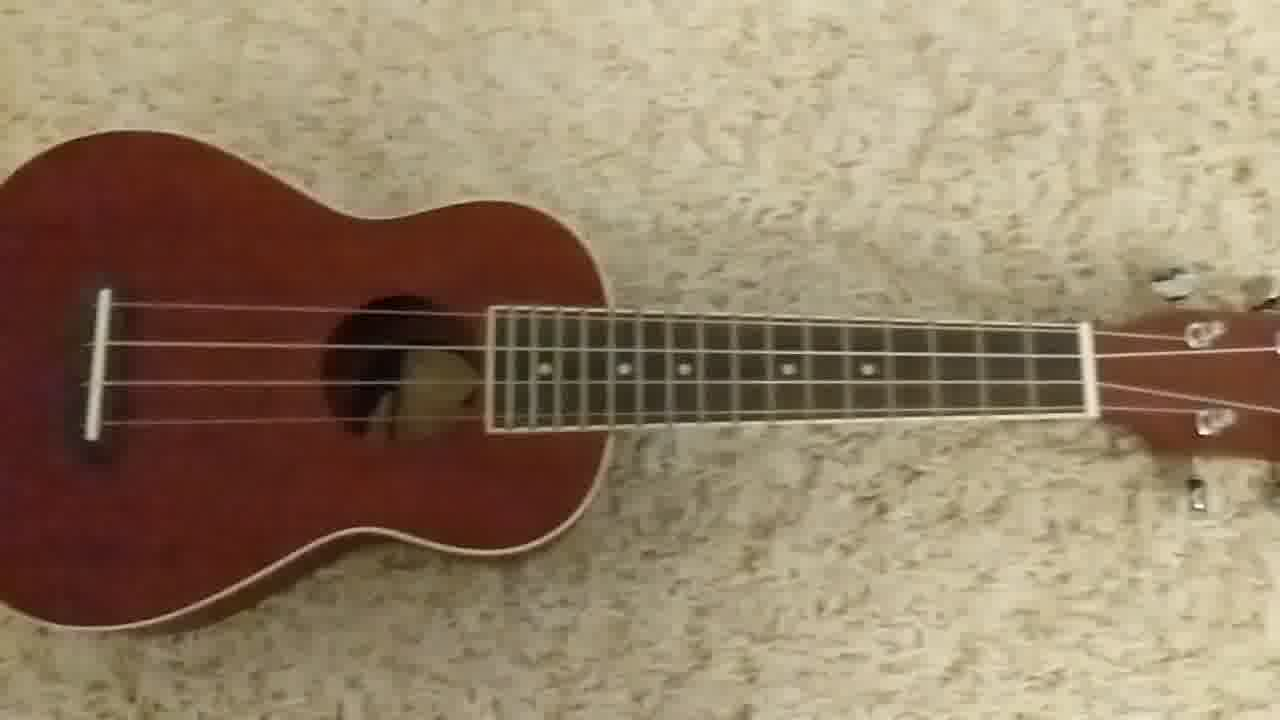Body: (1, 128, 612, 632)
Bridge: (70, 286, 119, 445)
Headstock: (1095, 268, 1280, 515)
